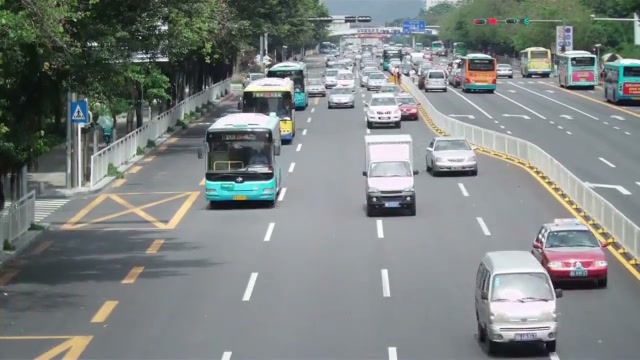bus: (203, 112, 283, 207), (241, 76, 296, 144), (267, 62, 308, 109), (556, 49, 600, 89), (603, 57, 640, 104), (463, 53, 497, 93), (519, 47, 553, 78)
car: (473, 250, 562, 355), (530, 218, 609, 289), (361, 131, 417, 217), (424, 137, 479, 177), (365, 93, 403, 130), (394, 94, 419, 121), (327, 88, 355, 109), (423, 70, 448, 93), (496, 63, 513, 78)
truck: (362, 132, 417, 217), (556, 49, 599, 89), (463, 53, 497, 93), (520, 47, 553, 78)
